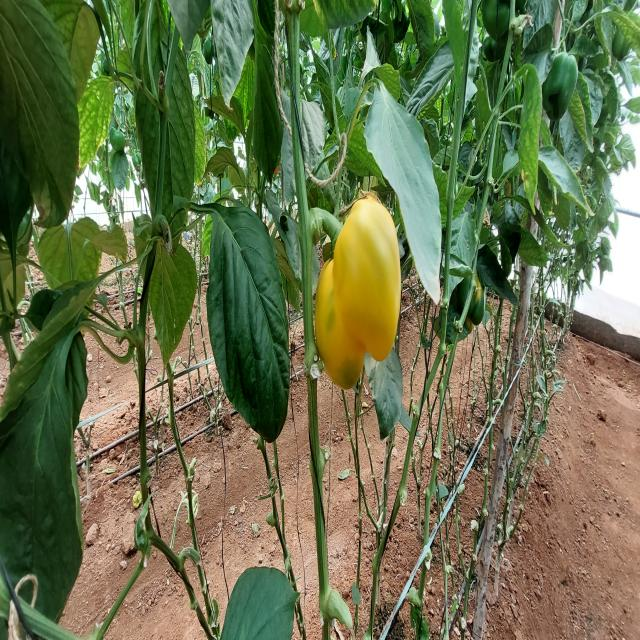Yellow-Ready-to-Harvest: (306, 193, 416, 394)
